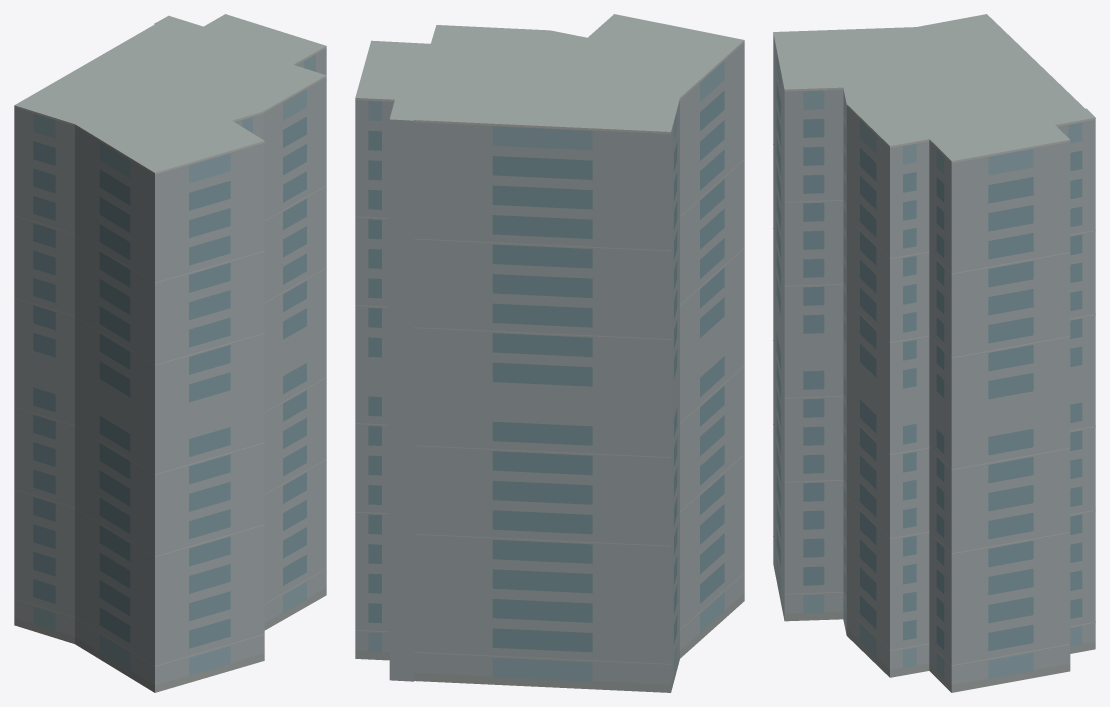
Rendered from survey-upis-33004054.glb.
3 renders of one model, left to right at view 1: azimuth 30°, elevation 25°; view 2: azimuth 150°, elevation 25°; view 3: azimuth 270°, elevation 25°, orthographic. The views are drawn at different scales.
Parts seen in each view (by area): view 1: survey-upis-33004054.tmp; view 2: survey-upis-33004054.tmp; view 3: survey-upis-33004054.tmp.
Part boxes in pixels (x1,y1,x2,y2): survey-upis-33004054.tmp: (14,14,326,692); survey-upis-33004054.tmp: (355,14,744,692); survey-upis-33004054.tmp: (773,14,1095,692).
Size of the model in its own units: 38.75 by 65.2 by 35.86.
